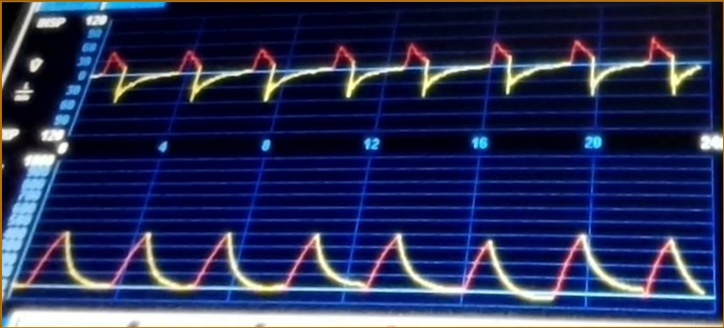Accumulation Flow: (104, 34, 700, 134)
Volume: (31, 226, 703, 306)
